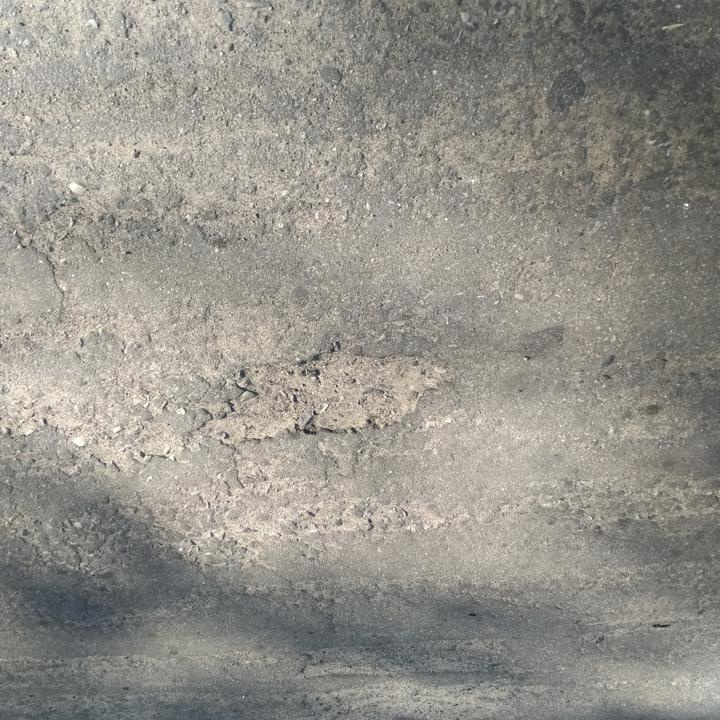pothole: (196, 341, 448, 448)
